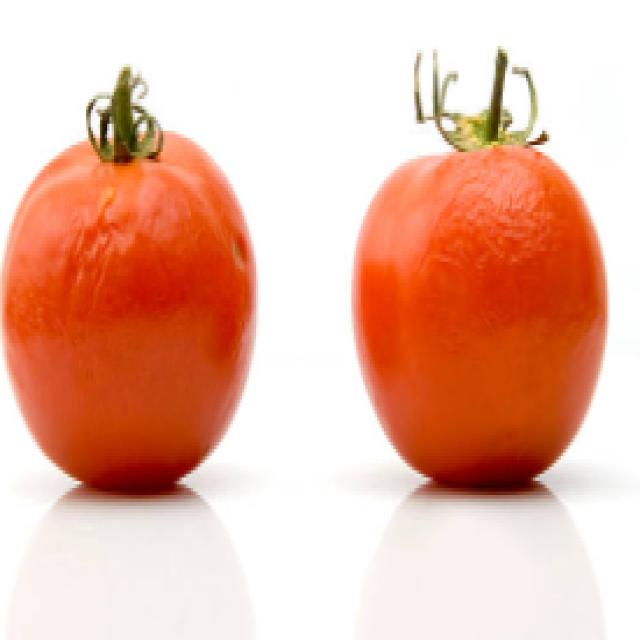Tomato: (348, 56, 630, 491), (4, 78, 279, 511)
